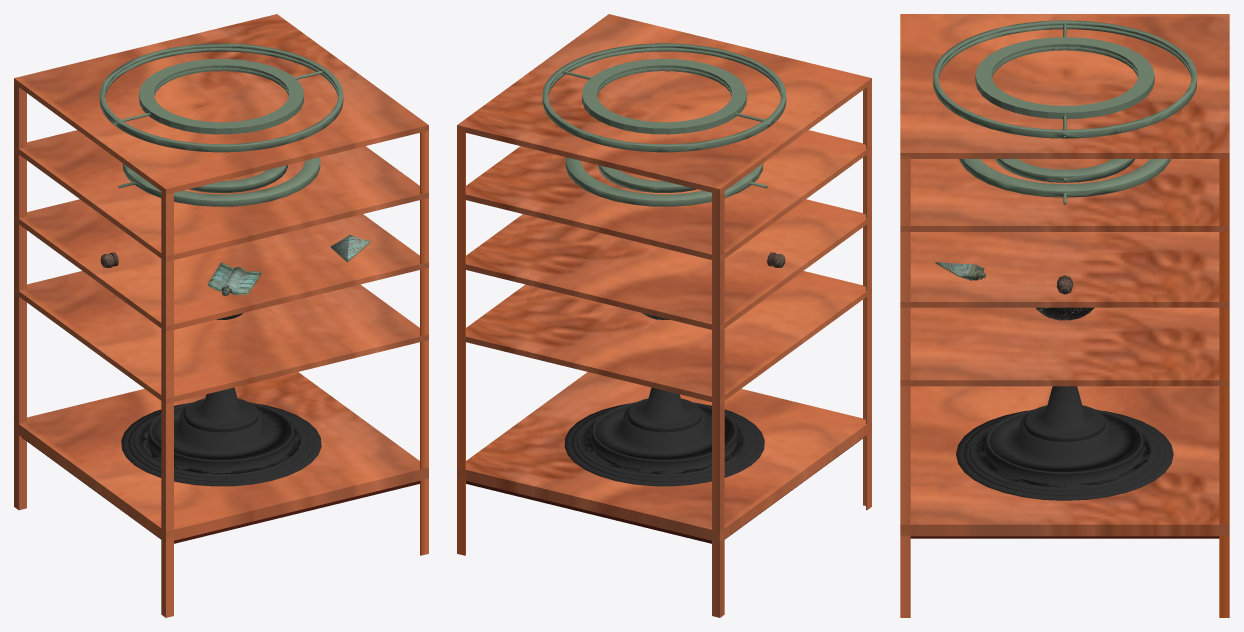
The model's file is 拆卸浑天仪（低模）.fbx.
3 renders of one model, left to right at view 1: azimuth 30°, elevation 25°; view 2: azimuth 150°, elevation 25°; view 3: azimuth 270°, elevation 25°, orthographic. The views are drawn at different scales.
Visible parts, largest first — view 1: 板子.004, 板子, 板子.001, 板子.002, 板子.003, 立方体.001, 云台.001, 黄道环.001, 子午环.001, 赤道环.001, 装饰1.002, 赤经环.001 (+2 smaller); view 2: 板子.004, 板子, 板子.001, 板子.002, 板子.003, 云台.001, 立方体.001, 黄道环.001, 子午环.001, 赤道环.001, 赤经环.001, 立方体.002; view 3: 板子.004, 板子, 板子.001, 板子.002, 板子.003, 云台.001, 立方体.001, 黄道环.001, 子午环.001, 赤道环.001, 赤经环.001, 立方体.002 (+2 smaller).
Boxes of the visible parts, box(x1,y1,x2,y2) form: 板子.004: box(14, 14, 428, 194); 板子: box(14, 372, 428, 542); 板子.001: box(14, 271, 428, 403); 板子.002: box(14, 199, 428, 331); 板子.003: box(14, 130, 428, 261); 立方体.001: box(14, 81, 428, 617); 云台.001: box(121, 387, 321, 486); 黄道环.001: box(121, 59, 322, 134); 子午环.001: box(99, 43, 343, 152); 赤道环.001: box(118, 157, 320, 206); 装饰1.002: box(207, 262, 261, 295); 赤经环.001: box(189, 165, 287, 192); 板子.004: box(457, 14, 871, 194); 板子: box(457, 372, 871, 542); 板子.001: box(465, 271, 871, 403); 板子.002: box(465, 199, 871, 331); 板子.003: box(465, 130, 871, 261); 云台.001: box(564, 387, 764, 486); 立方体.001: box(457, 80, 871, 617); 黄道环.001: box(563, 59, 764, 134); 子午环.001: box(542, 43, 786, 152); 赤道环.001: box(565, 157, 767, 206); 赤经环.001: box(598, 165, 696, 192); 立方体.002: box(466, 436, 865, 543); 板子.004: box(900, 14, 1229, 158); 板子: box(900, 386, 1229, 536); 板子.001: box(900, 307, 1229, 386); 板子.002: box(900, 232, 1229, 307); 板子.003: box(900, 159, 1229, 231); 云台.001: box(956, 386, 1173, 500); 立方体.001: box(900, 155, 1229, 617); 黄道环.001: box(975, 23, 1154, 129); 子午环.001: box(933, 20, 1196, 138); 赤道环.001: box(959, 159, 1170, 204); 赤经环.001: box(995, 159, 1134, 182); 立方体.002: box(910, 536, 1219, 538).
Size of the model in its own units: 1163 by 1845 by 1163.
